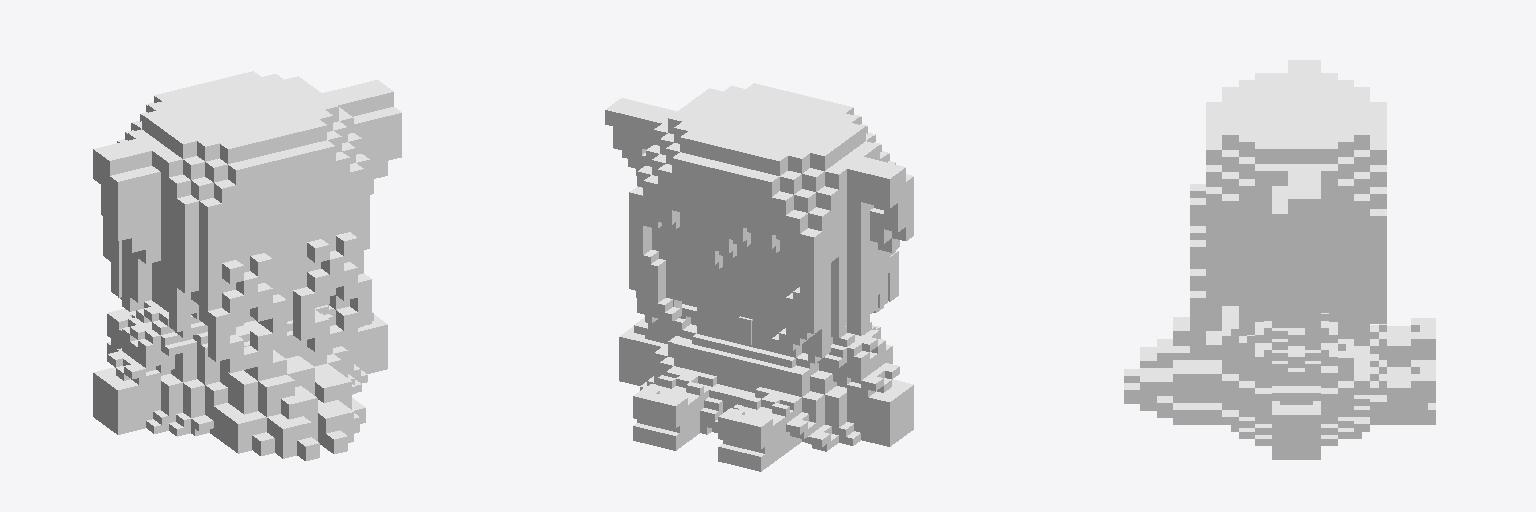
The model's file is Suzuran.obj.
The picture shows the model from 3 angles: view 1: azimuth 30°, elevation 25°; view 2: azimuth 150°, elevation 25°; view 3: azimuth 270°, elevation 25°; orthographic projection.
Visible parts, largest first — view 1: new__457_63_-93_to_476_82_-74; view 2: new__457_63_-93_to_476_82_-74; view 3: new__457_63_-93_to_476_82_-74.
Part boxes in pixels (left/top/right/bottom): new__457_63_-93_to_476_82_-74: left=93, top=71, right=401, bottom=460; new__457_63_-93_to_476_82_-74: left=605, top=83, right=913, bottom=471; new__457_63_-93_to_476_82_-74: left=1124, top=60, right=1435, bottom=459.
Size of the model in its own units: 20 by 19 by 19.